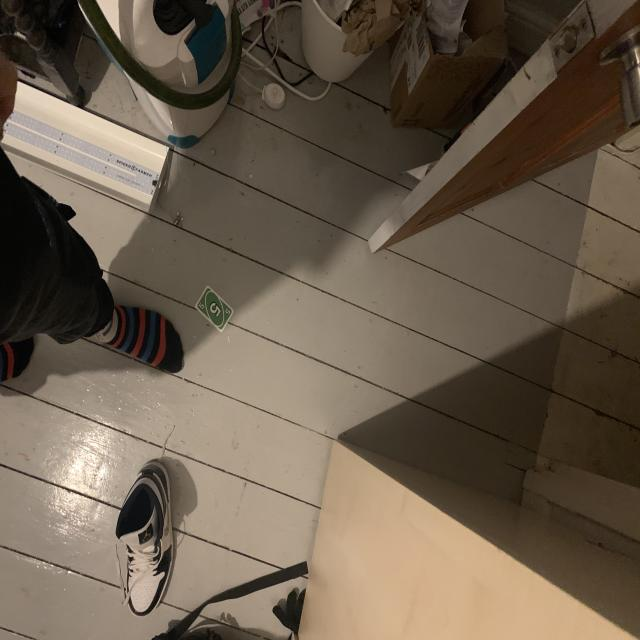lgreen-5: (198, 301, 206, 312)
